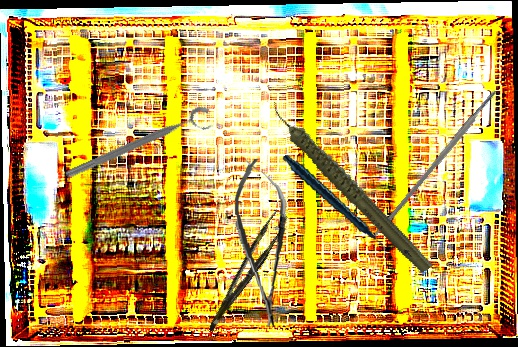Fixation Ring: (62, 102, 218, 192)
Handpiece: (268, 74, 435, 297), (282, 140, 387, 272)
Micro Scissor: (230, 156, 295, 330)
Scalpel Handle: (371, 89, 500, 239)
Tissue Forceps: (194, 208, 295, 333)
